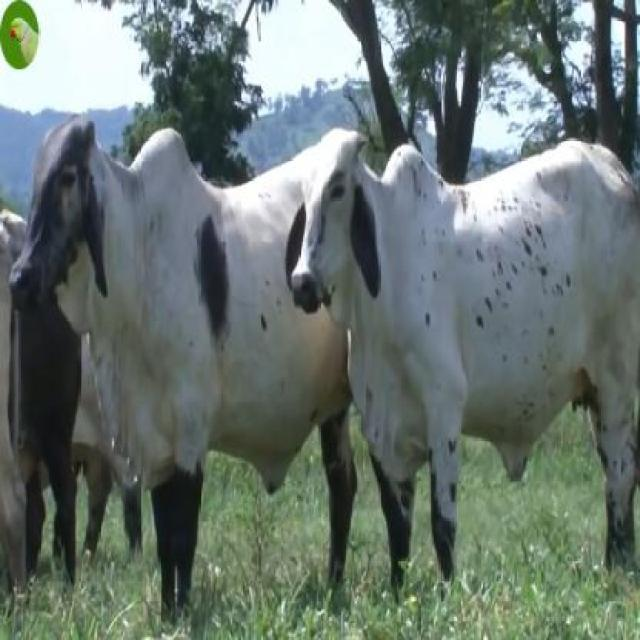Cow: (9, 120, 360, 638), (292, 127, 638, 638)
